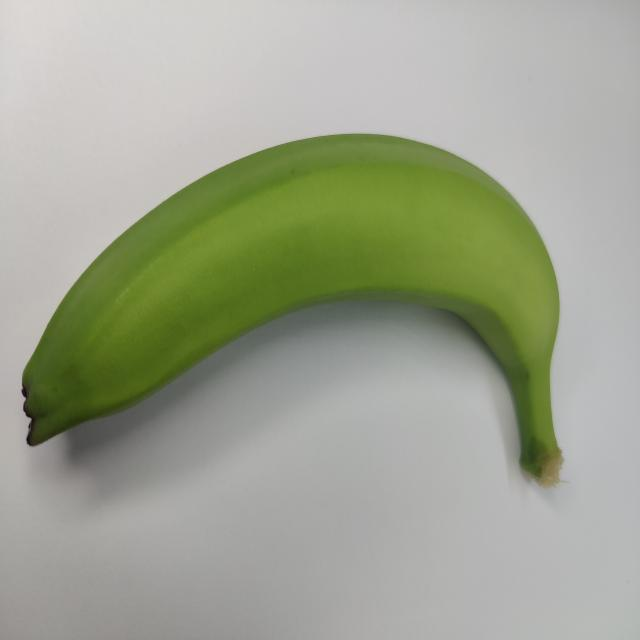raw: (15, 129, 581, 520)
